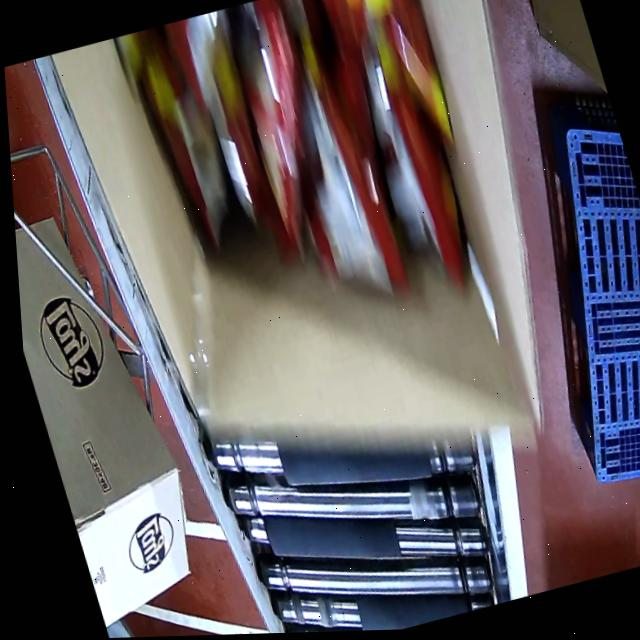MASALA: (110, 0, 494, 334)
